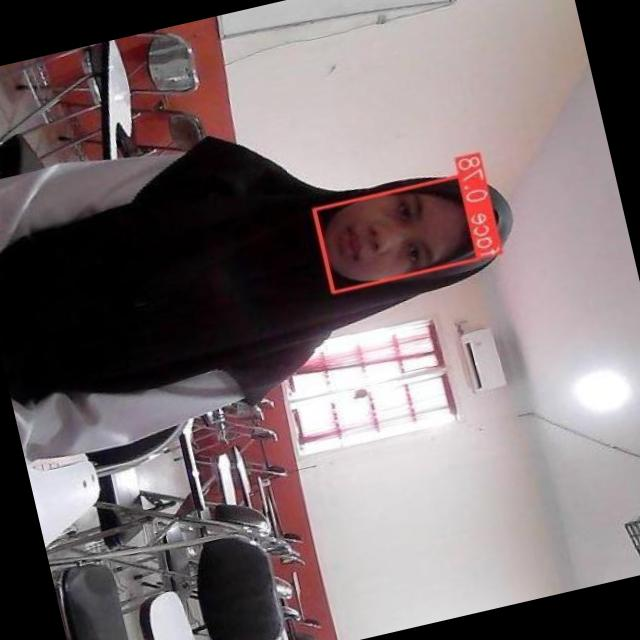bareface: (312, 144, 547, 344)
